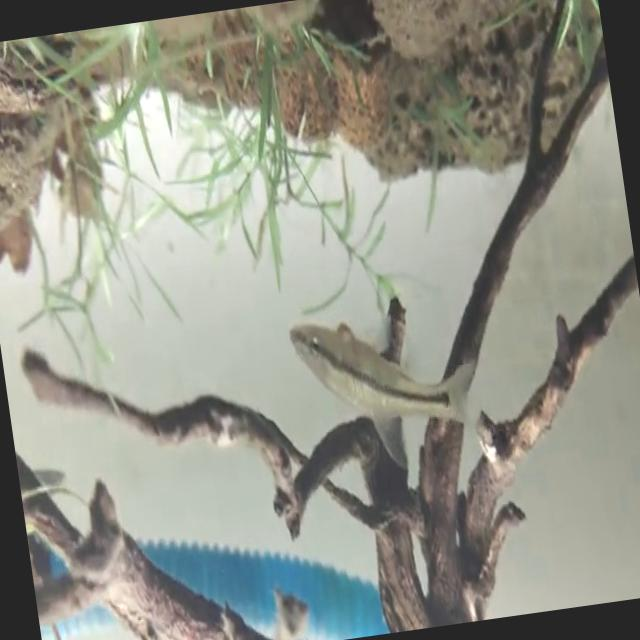Cakil Baligi: (286, 286, 490, 486)
